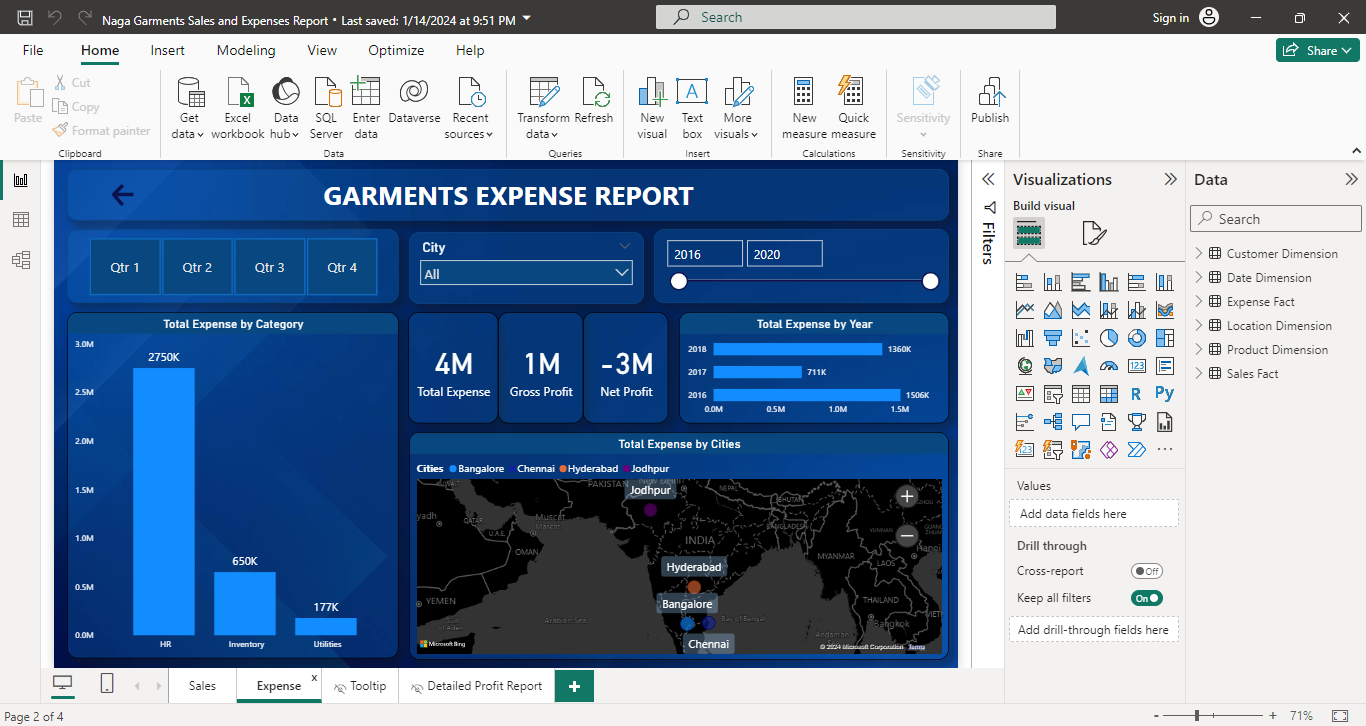

The dashboard page shown, as its layout file describes it:
{"tool":"powerbi","page":{"name":"Expense","canvas":[1280,720],"ordinal":1},"visuals":[{"type":"map","title":"Total Expense by Cities","fields":{"Category":["Location Dimension.City"],"Y":["Location Dimension.lat"],"X":["Location Dimension.lng"],"Series":["Sales Fact.City"],"Size":["Expense Fact.Amount"]},"box":[503.1,385.5,765,323],"z":0},{"type":"textbox","box":[18.3,13.3,1250,73.3],"z":1000},{"type":"slicer","fields":{"Values":["Date Dimension.Date.Variation.Date Hierarchy.Year"]},"box":[850,98.3,418.3,105],"z":2000},{"type":"slicer","fields":{"Values":["Date Dimension.Date.Variation.Date Hierarchy.Quarter"]},"box":[18.3,98.3,470,105],"z":3000},{"type":"slicer","fields":{"Values":["Sales Fact.City"]},"box":[503.3,101.7,333.3,101.7],"z":4000},{"type":"columnChart","title":"Total Expense by Category","fields":{"Category":["Expense Fact.Expense Category","Expense Fact.Expense Item"],"Y":["Expense Fact.Amount"]},"box":[17.9,215.8,470.3,491.2],"z":5000},{"type":"card","title":"Total Expense","fields":{"Values":["Expense Fact.Total Expense"]},"box":[501.1,216,128.2,158.4],"z":7000},{"type":"clusteredBarChart","title":"Total Expense by Year","fields":{"Category":["Date Dimension.Date.Variation.Date Hierarchy.Year","Date Dimension.Date.Variation.Date Hierarchy.Month"],"Y":["Expense Fact.Amount"]},"box":[885.6,216,383,158.4],"z":8000},{"type":"actionButton","box":[17.9,29.8,99.7,40.2],"z":9000},{"type":"card","title":"Total Expense","fields":{"Values":["Sales Fact.Total Profit"]},"box":[629.3,216,121,158.4],"z":10000},{"type":"card","title":"Total Expense","fields":{"Values":["Expense Fact.Net Profit"]},"box":[750.2,216,121,158.4],"z":11000}]}

Visuals, with their boxes on the page's 1280x720 design canvas (x1, y1, x2, y2). These are canvas units, not pixel positions in the 1366x726 screenshot, which may show the page scaled, cropped or inside an application window:
"Total Expense by Cities" map: (503, 386, 1268, 708)
textbox: (18, 13, 1268, 87)
slicer - Date Dimension.Date.Variation.Date Hierarchy.Year: (850, 98, 1268, 203)
slicer - Date Dimension.Date.Variation.Date Hierarchy.Quarter: (18, 98, 488, 203)
slicer - Sales Fact.City: (503, 102, 837, 203)
"Total Expense by Category" columnChart: (18, 216, 488, 707)
"Total Expense" card: (501, 216, 629, 374)
"Total Expense by Year" clusteredBarChart: (886, 216, 1269, 374)
actionButton: (18, 30, 118, 70)
"Total Expense" card: (629, 216, 750, 374)
"Total Expense" card: (750, 216, 871, 374)
